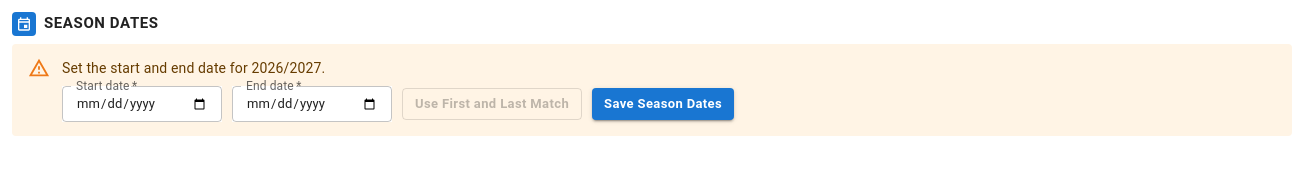
LeagueSeasonDatesBlock (docs/specs/111) › saves the dates and refreshes the dates, age reference and matches
The width and height of the screenshot is (1292, 179).
Expected: the message with test id "season-dates-banner" is shown, [12,44,1291,136]
Type "2026-09-01" into the date field labelled "Start date *" at (142,104), box [62,88,222,120]
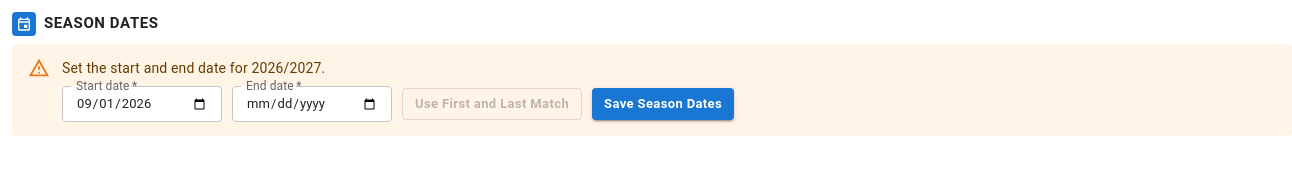
Type "2027-07-31" into the date field labelled "End date *" at (312,104), box [232,88,392,120]
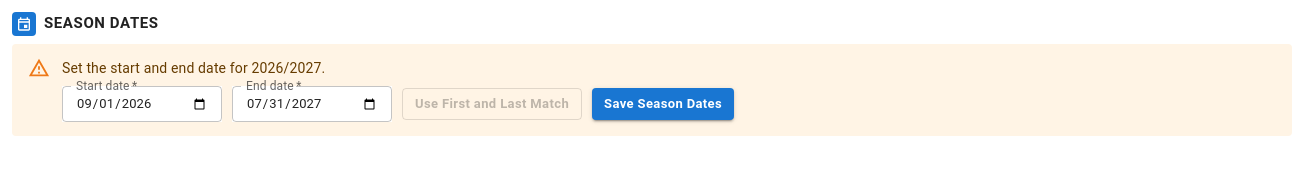
Click the button "Save Season Dates" at (663,104), box [592,88,734,120]
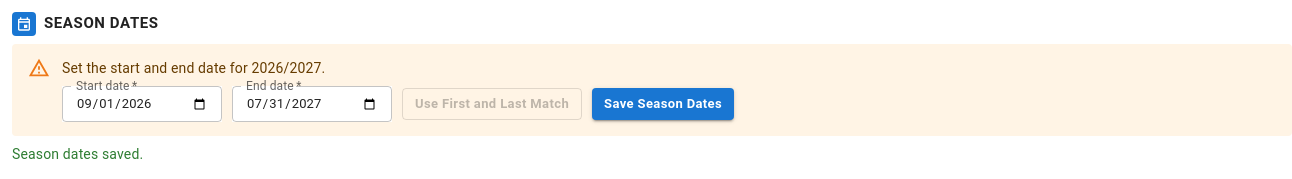
Expected: the text "Season dates saved." is shown, [12,146,143,162]
